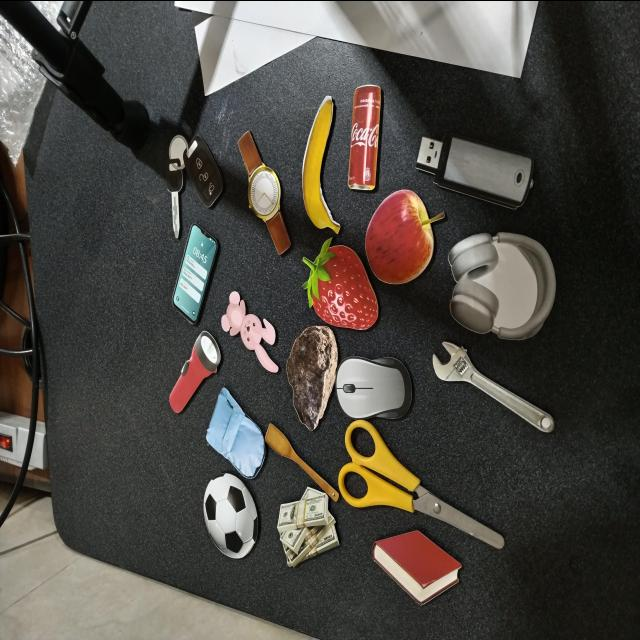Other Objects: (338, 419, 505, 549), (428, 333, 562, 440), (447, 230, 557, 341), (141, 118, 231, 239), (413, 125, 536, 212), (192, 460, 270, 570), (235, 123, 294, 261), (197, 385, 277, 485), (364, 188, 446, 284), (262, 421, 345, 502), (165, 326, 228, 425), (285, 324, 338, 431), (302, 94, 341, 234), (334, 355, 414, 421), (276, 486, 340, 568), (171, 223, 220, 324), (220, 290, 279, 373), (347, 83, 382, 191)
